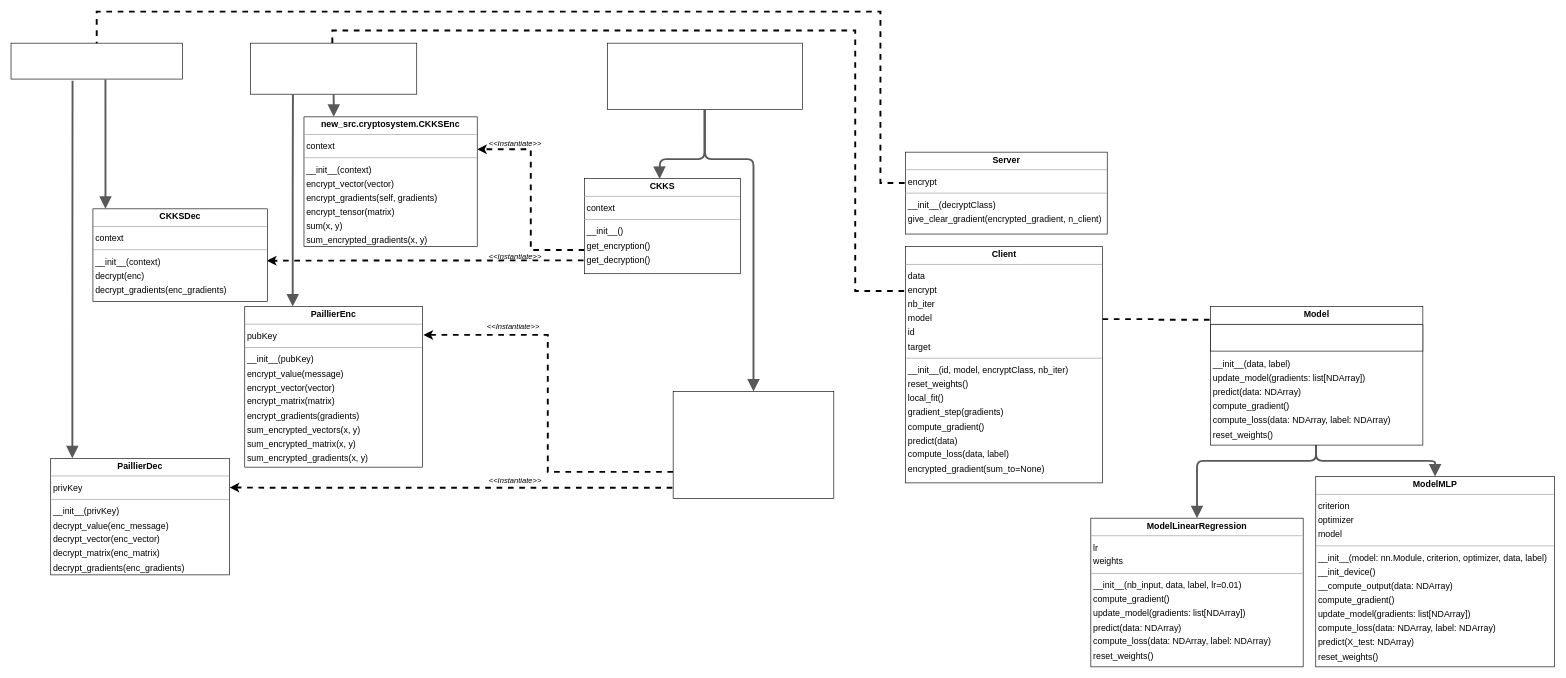
Some shapes in this 1566 by 678 pixel diagram are drawn without their labels. The shapes that lost their labels are listed below. From the top down, each one's box as (x1, y1, x2, y2) in pixels, then its label:
(10, 43, 182, 79): Decrypt decrypt_gradients(enc_gradients)
(250, 43, 417, 94): Encrypt encrypt_gradients(gradients) sum_encrypted_gradients(x, y)
(607, 43, 802, 109): CryptoSystem get_pubkey() get_encryption() get_decryption()
(1210, 324, 1423, 351): data label
(673, 391, 834, 499): Paillier privkey pubkey __init__() get_encryption() get_decryption()
